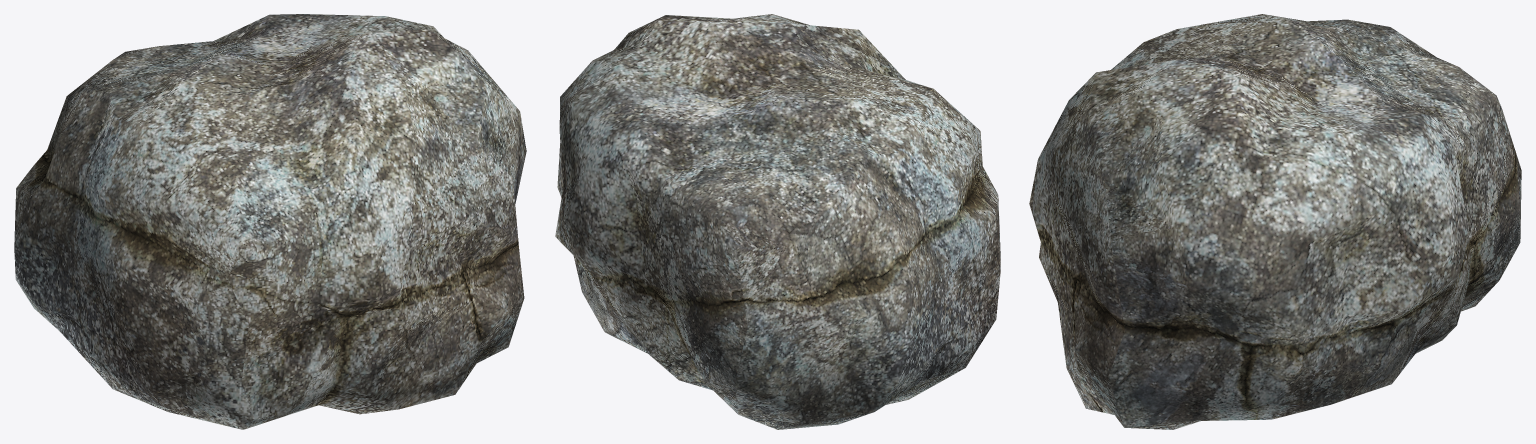
The model's file is Rock5A.fbx.
3 renders of one model, left to right at view 1: azimuth 30°, elevation 25°; view 2: azimuth 150°, elevation 25°; view 3: azimuth 270°, elevation 25°, orthographic. The views are drawn at different scales.
Parts seen in each view (by area): view 1: polySurface7; view 2: polySurface7; view 3: polySurface7.
Boxes of the visible parts, <box> form: polySurface7: <box>14,14,526,429</box>; polySurface7: <box>555,14,1000,429</box>; polySurface7: <box>1029,14,1521,429</box>.
Bounding box in the file's own units: 4.42 × 3.3 × 4.24.
